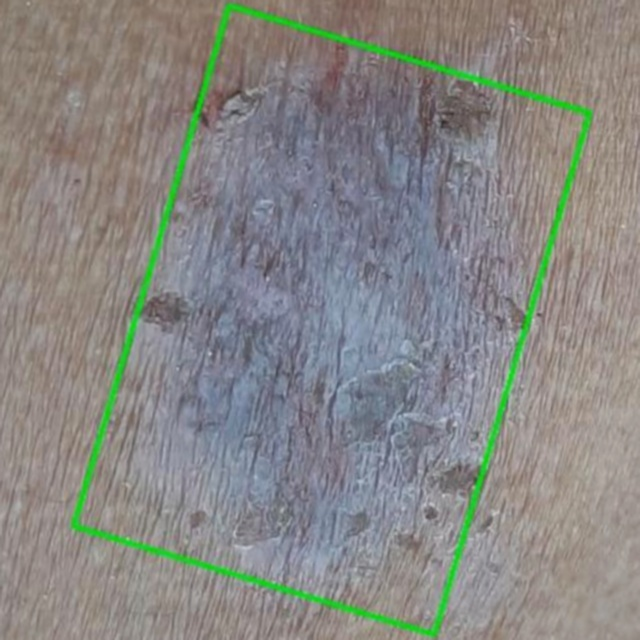Seborrheic Dermatitis: (72, 5, 588, 634)
